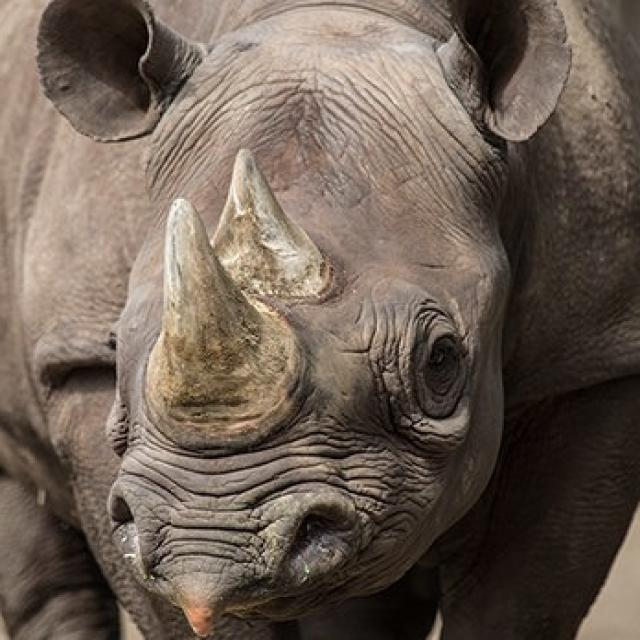rhinoceros: (2, 0, 640, 638)
